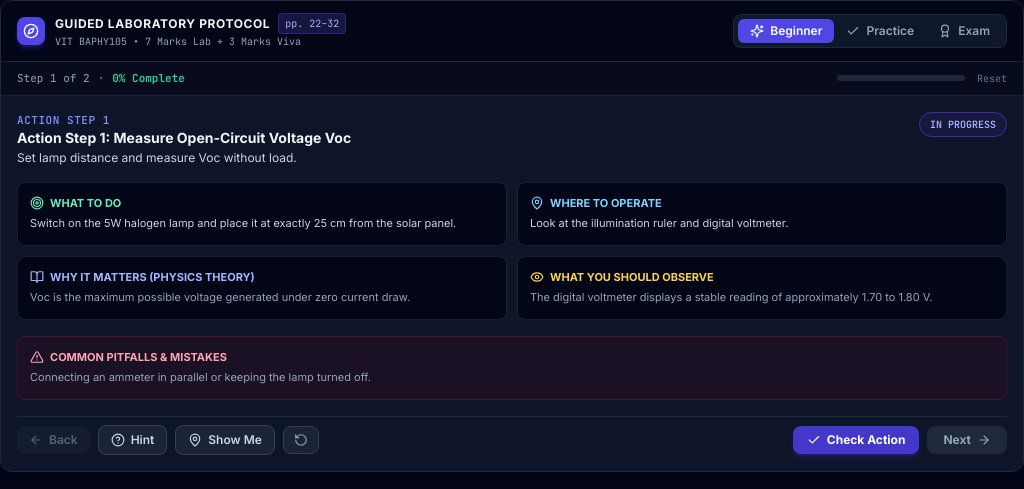
Scenario: Reusable Instructional & Guided Lab System › 1. GuidedLabPanel Mode Switching & Persistence › switches between Beginner, Practice, and Exam modes cleanly
This screenshot has width=1024, height=489.
# Switch to Practice Mode
Click the button "Practice" at (880, 31), box left=834, top=19, right=926, bottom=43
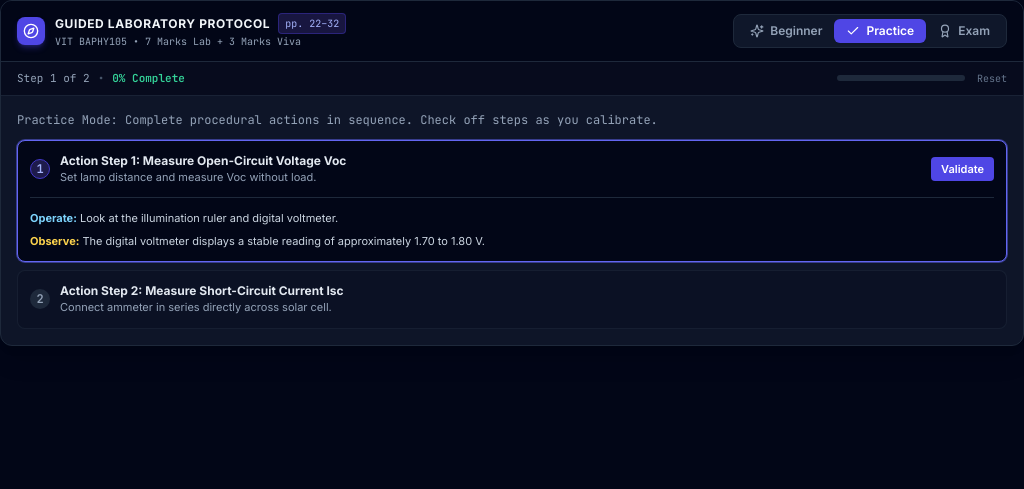
Now the text "Practice Mode: Complete procedural actions in sequence" is shown, box left=17, top=112, right=658, bottom=128
# Switch to Exam Mode
Click the button "Exam" at (964, 31), box left=926, top=19, right=1002, bottom=43
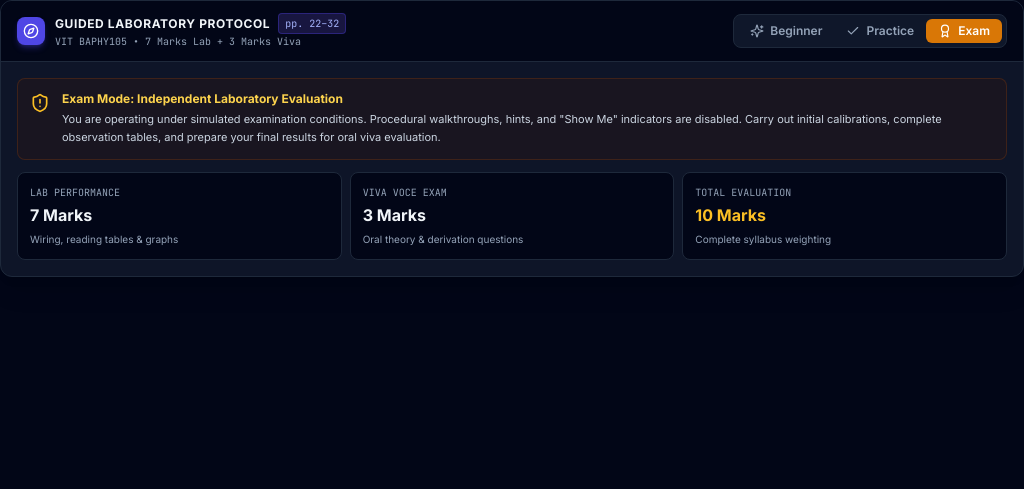
Now the heading "Exam Mode: Independent Laboratory Evaluation" is shown, box left=62, top=91, right=343, bottom=106
